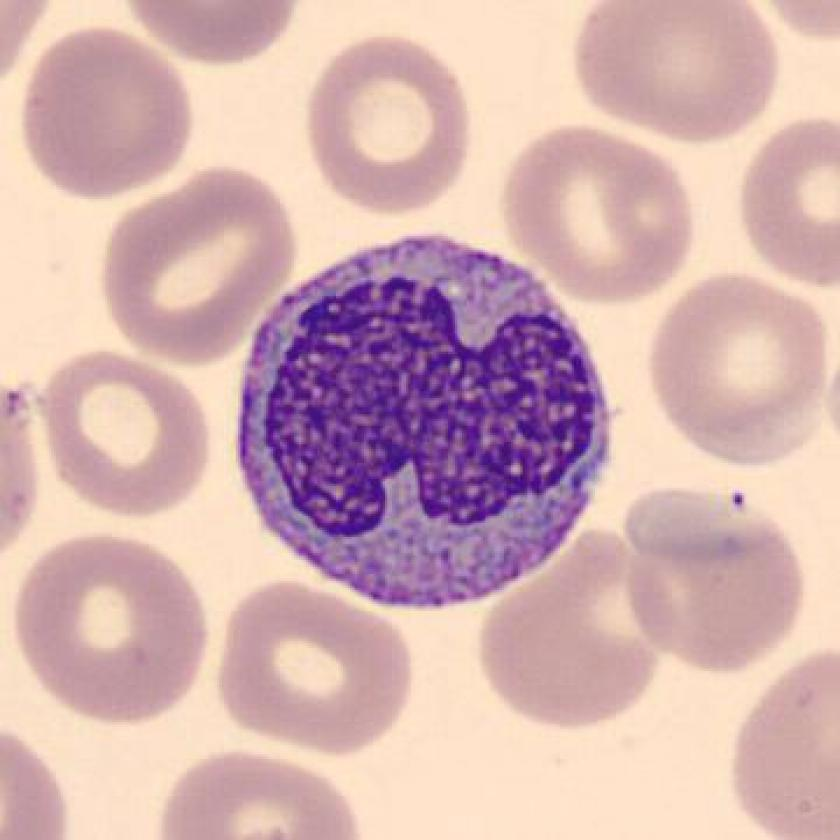monocyte: (220, 214, 631, 630)
